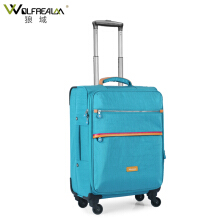luggage: (68, 19, 167, 215)
